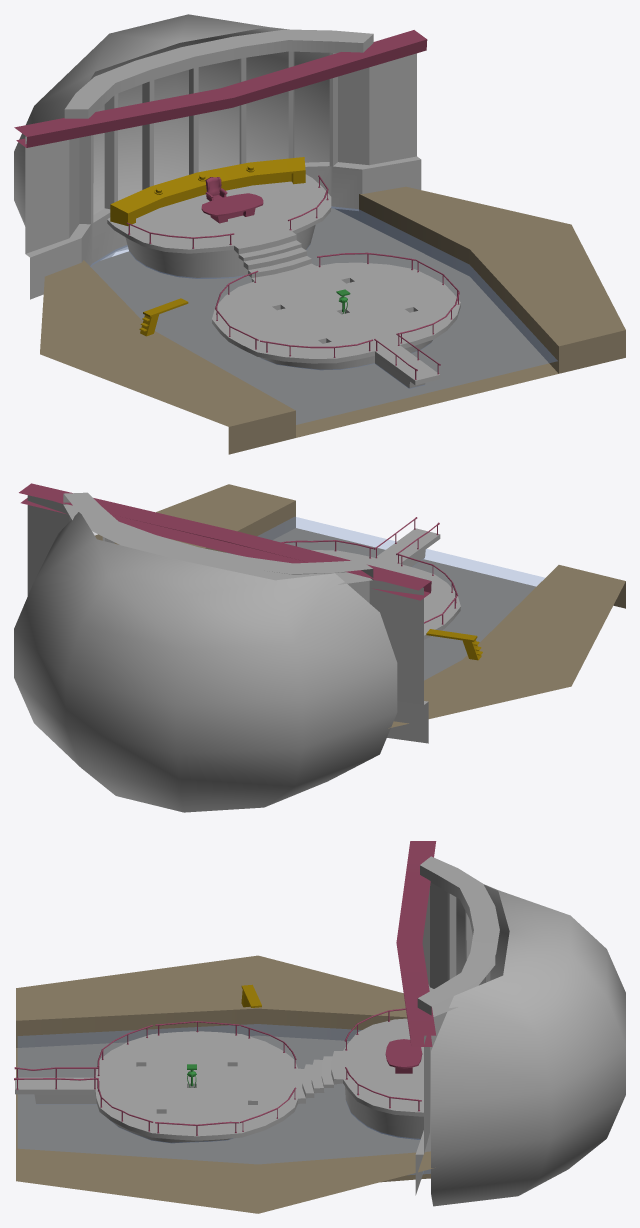
The model's file is LairInteriour.fbx.
The picture shows the model from 3 angles, top to bottom: view 1: azimuth 30°, elevation 25°; view 2: azimuth 150°, elevation 25°; view 3: azimuth 270°, elevation 25°; orthographic projection.
Visible parts, largest first — view 1: Ground, Backwall, Floor, Water, SkyPanorama, RoofBeam, ControlPanel, Railings, Table; view 2: SkyPanorama, Ground, Backwall, Water, RoofBeam, Floor, Railings; view 3: Ground, SkyPanorama, Floor, Water, Backwall, RoofBeam, Railings, Table.
Part boxes in pixels (x1,y1,x2,y2): Ground: (40, 186, 625, 454); Backwall: (25, 29, 421, 299); Floor: (107, 174, 460, 388); Water: (90, 206, 557, 424); SkyPanorama: (14, 14, 329, 260); RoofBeam: (14, 30, 427, 147); ControlPanel: (110, 157, 305, 225); Railings: (126, 175, 459, 379); Table: (201, 193, 263, 223); SkyPanorama: (14, 512, 397, 812); Ground: (95, 484, 625, 728); Backwall: (27, 492, 428, 743); Water: (226, 517, 544, 680); RoofBeam: (19, 483, 431, 600); Floor: (311, 528, 460, 639); Railings: (281, 517, 457, 624); Ground: (16, 955, 435, 1213); SkyPanorama: (431, 884, 625, 1206); Floor: (15, 1018, 423, 1143); Water: (18, 1024, 430, 1174); Backwall: (415, 856, 499, 1195); RoofBeam: (396, 841, 436, 1046); Railings: (14, 1008, 421, 1135); Table: (385, 1039, 422, 1073).
Bounding box in the file's own units: 60.24 × 24.11 × 60.31.
